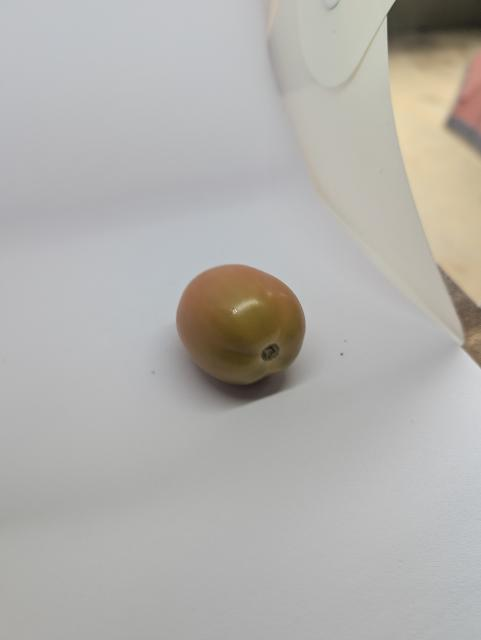turning: (170, 255, 315, 402)
